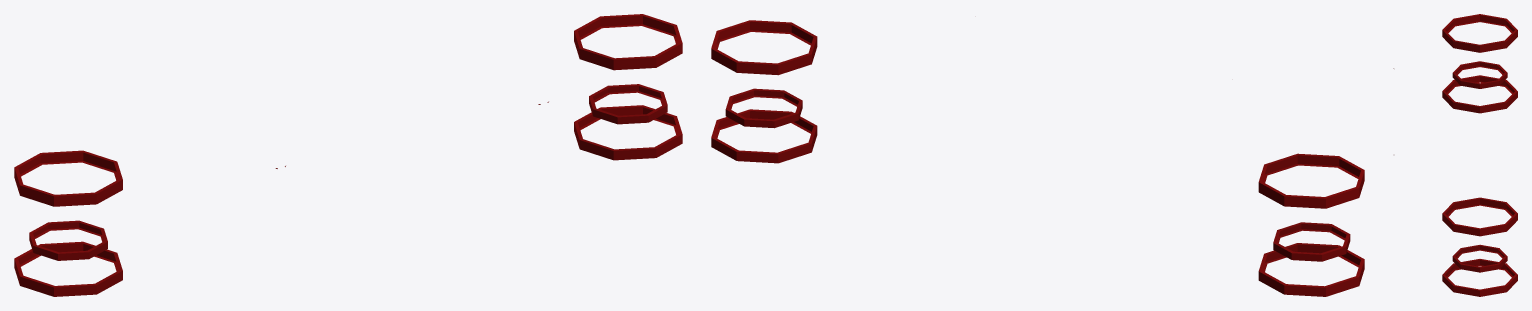
The model's file is Pillar_01.FBX.
3 views of the same model, side by side, from view 1: azimuth 30°, elevation 25°; view 2: azimuth 150°, elevation 25°; view 3: azimuth 270°, elevation 25° (orthographic). The views are drawn at different scales.
Parts seen in each view (by area): view 1: Pillar_01; view 2: Pillar_01; view 3: Pillar_01.
Boxes of the visible parts, left/top/right/bottom form: Pillar_01: left=14, top=14, right=682, bottom=296; Pillar_01: left=711, top=20, right=1364, bottom=296; Pillar_01: left=1393, top=14, right=1517, bottom=296.
Size of the model in its own units: 38.26 by 6.56 by 9.36.
